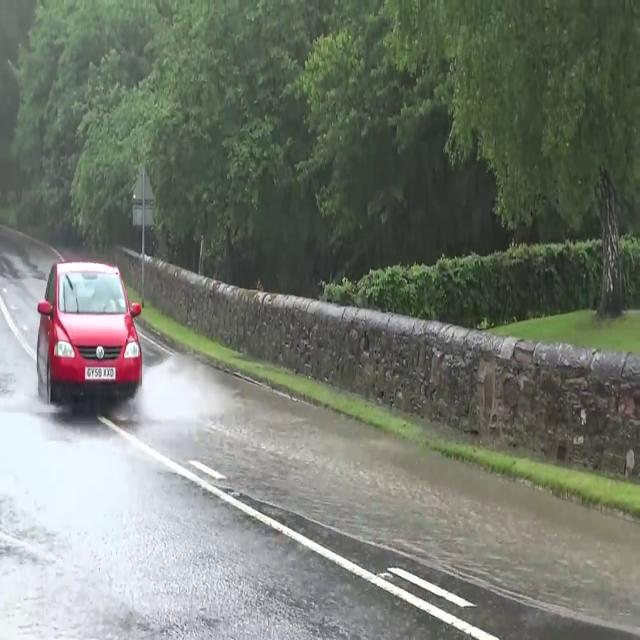license-plate-annotation: (84, 364, 119, 384)
